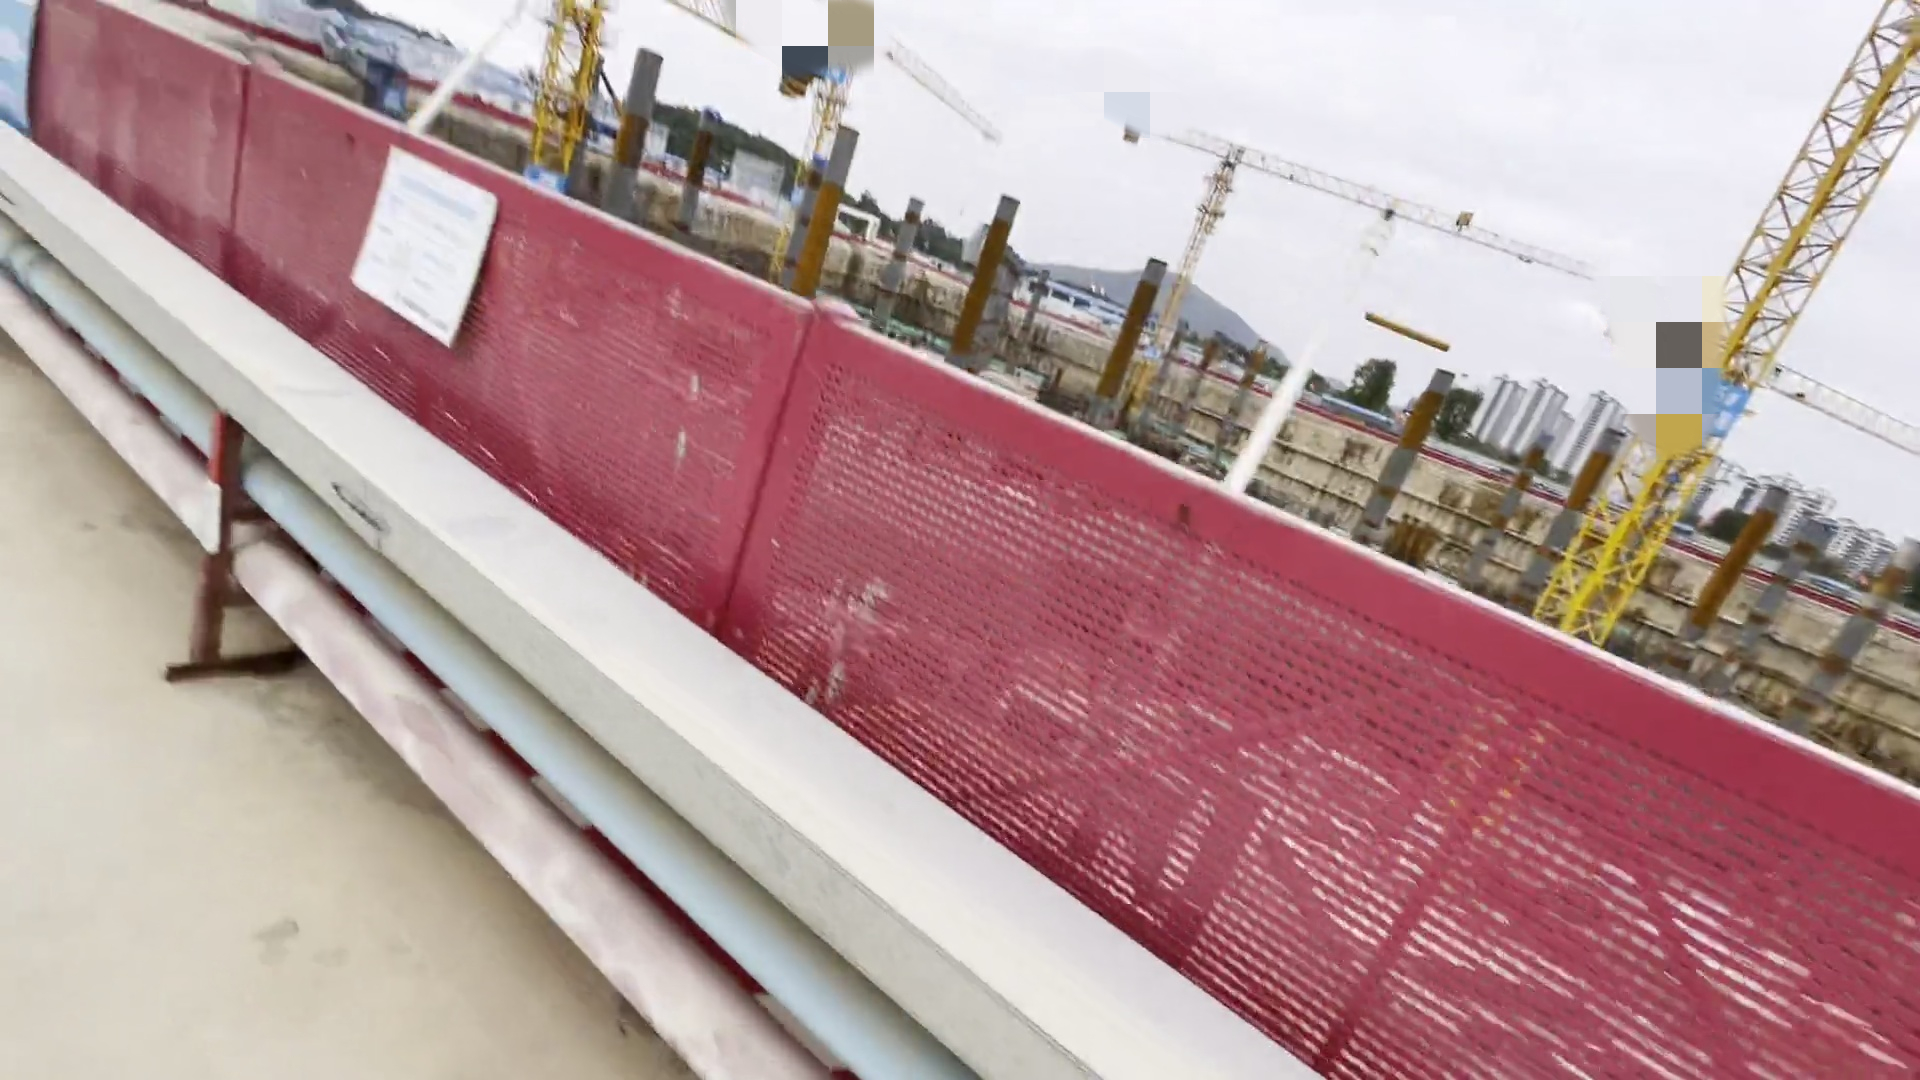fence: (80, 1, 1829, 1063)
